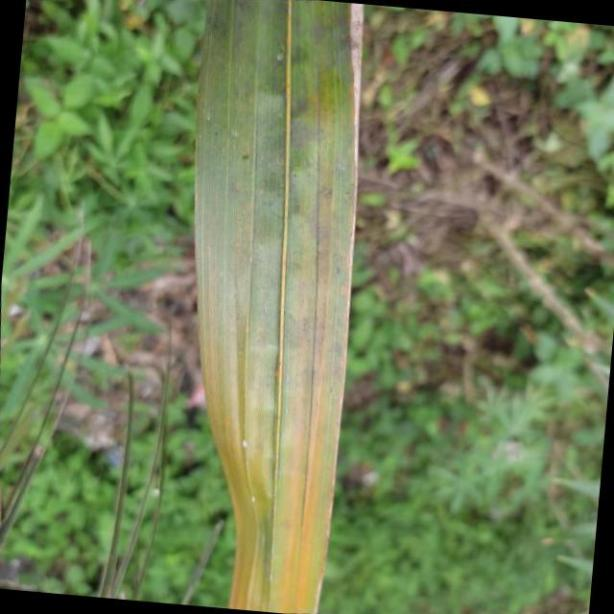Megnesium: (192, 0, 366, 614)
